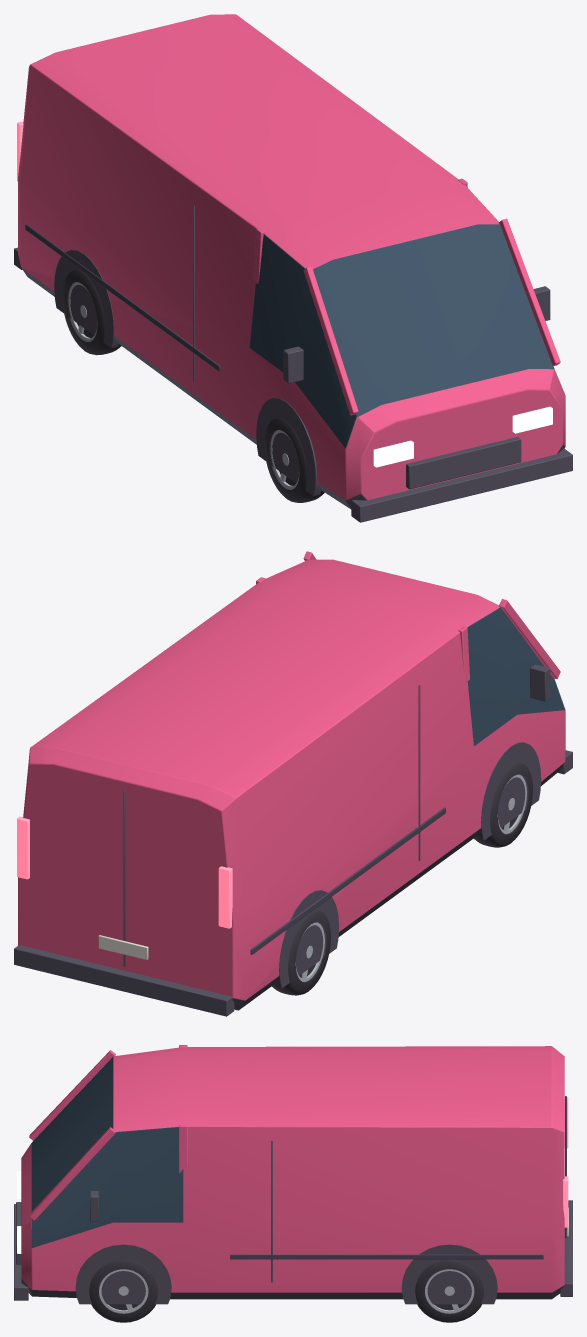
The model's file is van.glb.
3 renders of one model, top to bottom at view 1: azimuth 30°, elevation 25°; view 2: azimuth 150°, elevation 25°; view 3: azimuth 270°, elevation 25°, orthographic. The views are drawn at different scales.
Parts seen in each view (by area): view 1: van; view 2: van; view 3: van.
Part boxes in pixels (x1=…): van: x1=14, y1=14, x2=572, y2=522; van: x1=14, y1=551, x2=572, y2=1016; van: x1=14, y1=1045, x2=572, y2=1322.
Size of the model in its own units: 2.34 by 2.1 by 5.35.
